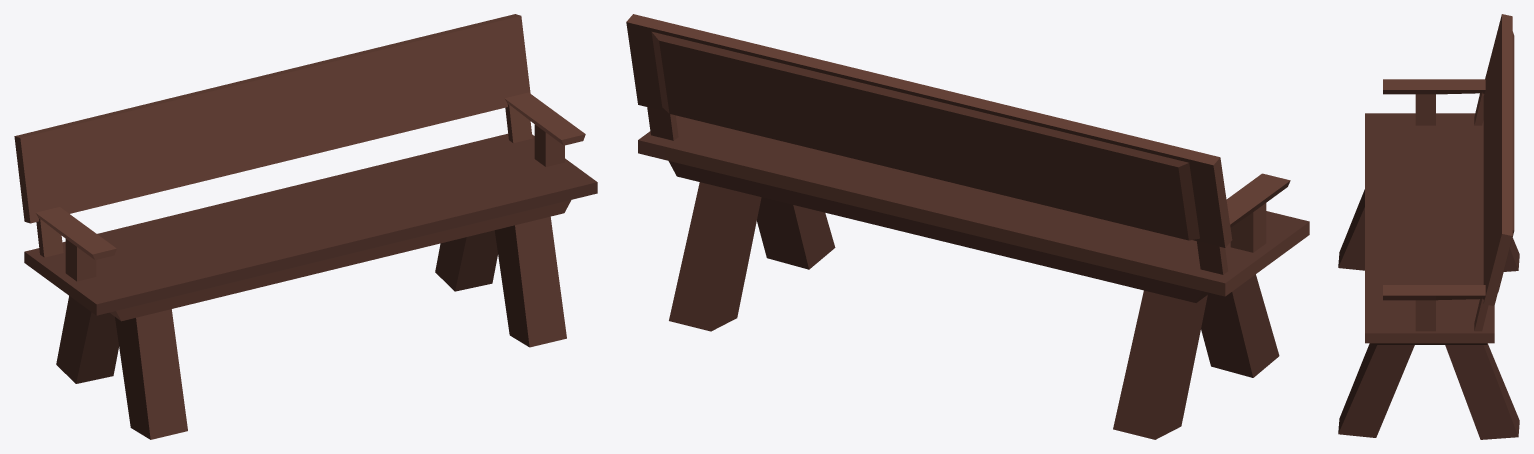
Rendered from Bankje1.fbx.
The picture shows the model from 3 angles, left to right: view 1: azimuth 30°, elevation 25°; view 2: azimuth 150°, elevation 25°; view 3: azimuth 270°, elevation 25°; orthographic projection. The views are drawn at different scales.
Visible parts, largest first — view 1: Cube.006, Cube, Cube.001, Cube.003, Cube.002, Cube.007, Cube.005, Cube.004; view 2: Cube.006, Cube, Cube.002, Cube.004, Cube.001, Cube.003, Cube.007, Cube.005; view 3: Cube, Cube.006, Cube.004, Cube.003, Cube.005, Cube.007, Cube.001, Cube.002.
Part boxes in pixels (x1=…): Cube.006: x1=14, y1=14, x2=530, y2=223; Cube: x1=24, y1=133, x2=597, y2=321; Cube.001: x1=115, y1=309, x2=187, y2=439; Cube.003: x1=494, y1=216, x2=566, y2=347; Cube.002: x1=56, y1=296, x2=118, y2=383; Cube.007: x1=36, y1=207, x2=116, y2=281; Cube.005: x1=504, y1=92, x2=585, y2=166; Cube.004: x1=435, y1=230, x2=497, y2=291; Cube.006: x1=626, y1=14, x2=1232, y2=247; Cube: x1=638, y1=115, x2=1309, y2=302; Cube.002: x1=1113, y1=290, x2=1207, y2=439; Cube.004: x1=669, y1=182, x2=761, y2=331; Cube.001: x1=1201, y1=274, x2=1279, y2=377; Cube.003: x1=757, y1=197, x2=835, y2=269; Cube.007: x1=1197, y1=173, x2=1290, y2=274; Cube.005: x1=647, y1=107, x2=678, y2=140; Cube: x1=1365, y1=113, x2=1494, y2=344; Cube.006: x1=1483, y1=14, x2=1514, y2=305; Cube.004: x1=1445, y1=343, x2=1519, y2=439; Cube.003: x1=1338, y1=343, x2=1414, y2=437; Cube.005: x1=1383, y1=285, x2=1488, y2=331; Cube.007: x1=1383, y1=79, x2=1485, y2=125; Cube.001: x1=1338, y1=189, x2=1364, y2=270; Cube.002: x1=1504, y1=238, x2=1519, y2=271.
Size of the model in its own units: 582 by 276 by 203.
